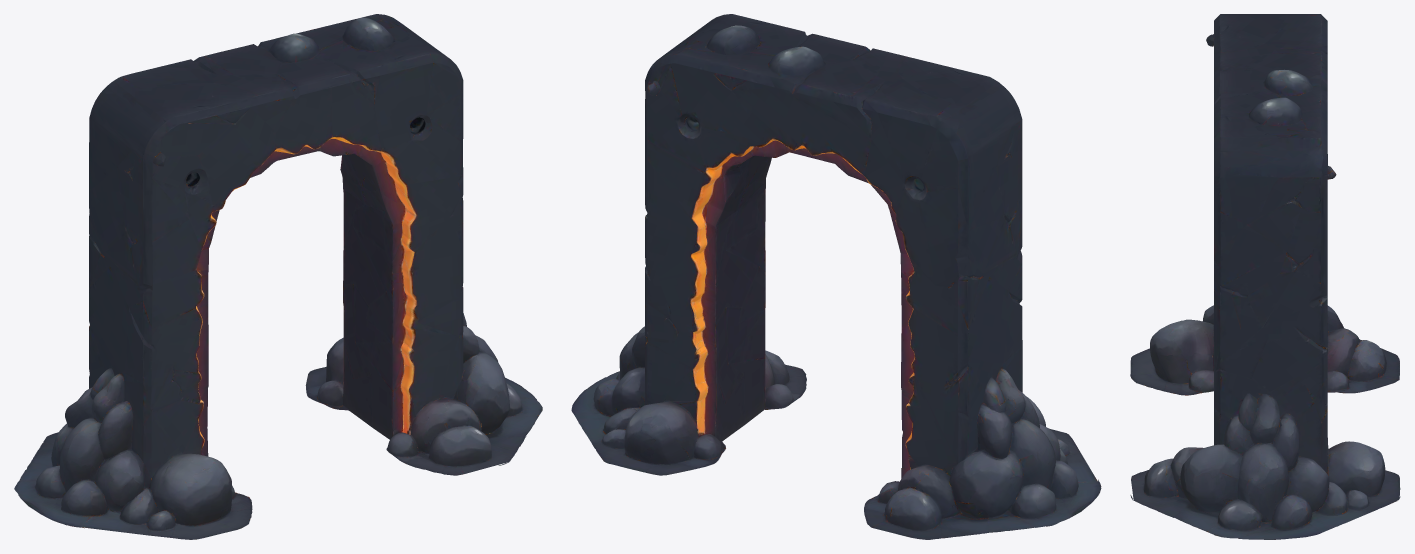
The model's file is volcano-gate.glb.
The picture shows the model from 3 angles, left to right: view 1: azimuth 30°, elevation 25°; view 2: azimuth 150°, elevation 25°; view 3: azimuth 270°, elevation 25°; orthographic projection. The views are drawn at different scales.
Visible parts, largest first — view 1: Mesh_0; view 2: Mesh_0; view 3: Mesh_0.
Part boxes in pixels (x1,y1,x2,y2): Mesh_0: (14, 14, 542, 539); Mesh_0: (571, 14, 1101, 539); Mesh_0: (1130, 14, 1400, 539).
Bounding box in the file's own units: 1.9 × 1.47 × 0.9673.
Materials: 1 (1 with a texture image).
